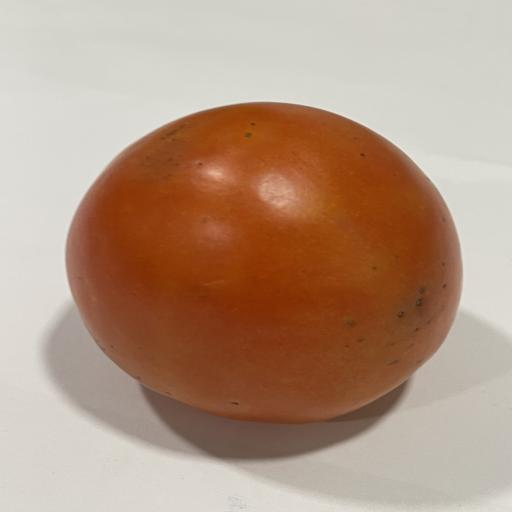ripe: (67, 103, 461, 423)
